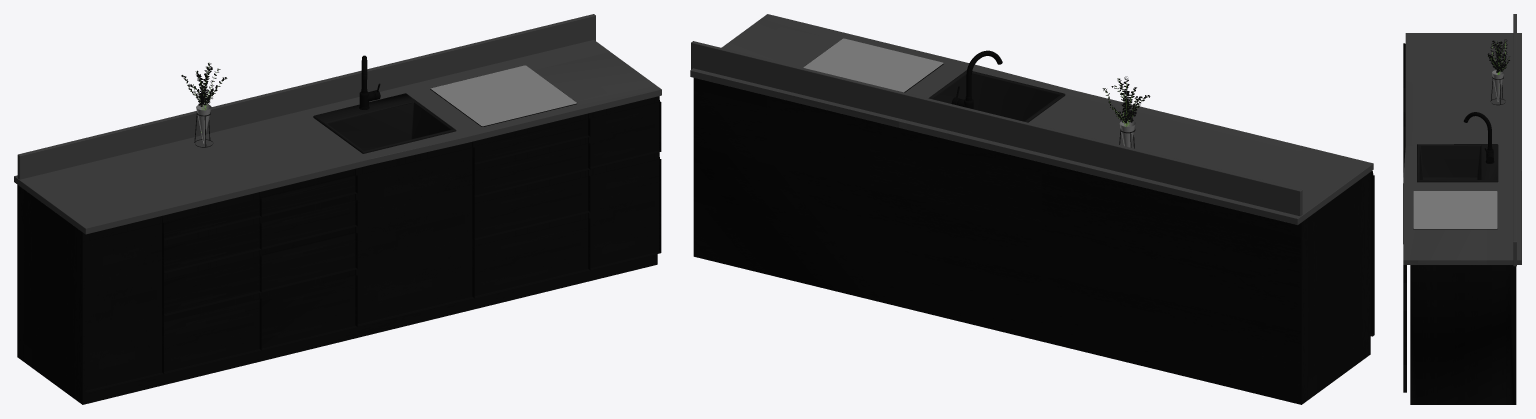
File: kitchencounter.glb
3 renders of one model, left to right at view 1: azimuth 30°, elevation 25°; view 2: azimuth 150°, elevation 25°; view 3: azimuth 270°, elevation 25°, orthographic. The views are drawn at different scales.
Visible parts, largest first — view 1: kitchen_mass.003, kitchen_front.029, kitchen_front.034, kitchen_mass.001, kitchen_front.020, Plane, kitchen_front.001, kitchen_front.003, cooker-cooker, sink, kitchen_front.002, eucalyptus_leafs_large.001; view 2: kitchen_mass.001, kitchen_mass.003, Plane, cooker-cooker, sink, kitchen_front.001, eucalyptus_leafs_large.001, sink.001; view 3: kitchen_mass.003, kitchen_mass.001, cooker-cooker, sink, Plane, eucalyptus_leafs_large.001, sink.001, kitchen_front.003, kitchen_front.029, pot.001, kitchen_front.002, cooker-metal_white.
Part boxes in pixels (x1,y1,x2,y2): kitchen_mass.003: (14,40,661,234); kitchen_front.029: (163,168,357,373); kitchen_front.034: (356,141,474,326); kitchen_mass.001: (17,113,657,404); kitchen_front.020: (473,113,590,298); Plane: (17,14,595,179); kitchen_front.001: (85,216,163,392); kitchen_front.003: (589,152,661,269); cooker-cooker: (430,65,576,126); sink: (313,93,456,153); kitchen_front.002: (589,96,661,168); eucalyptus_leafs_large.001: (181,63,227,106); kitchen_mass.001: (693,78,1370,404); kitchen_mass.003: (690,14,1373,224); Plane: (691,41,1302,216); cooker-cooker: (803,38,943,92); sink: (928,70,1065,122); kitchen_front.001: (1370,171,1374,336); eucalyptus_leafs_large.001: (1102,76,1150,123); sink.001: (951,50,1002,109); kitchen_mass.003: (1403,33,1521,264); kitchen_mass.001: (1410,265,1516,404); cooker-cooker: (1413,191,1497,228); sink: (1417,144,1498,182); Plane: (1513,14,1516,266); eucalyptus_leafs_large.001: (1487,39,1509,72); sink.001: (1463,112,1494,163); kitchen_front.003: (1403,310,1406,392); kitchen_front.029: (1403,73,1405,150); pot.001: (1492,70,1504,101); kitchen_front.002: (1403,265,1406,310); cooker-metal_white: (1413,191,1497,229).
Bounding box in the file's own units: 5.95 × 2.54 × 1.31.
Materials: 11 (2 with a texture image).
